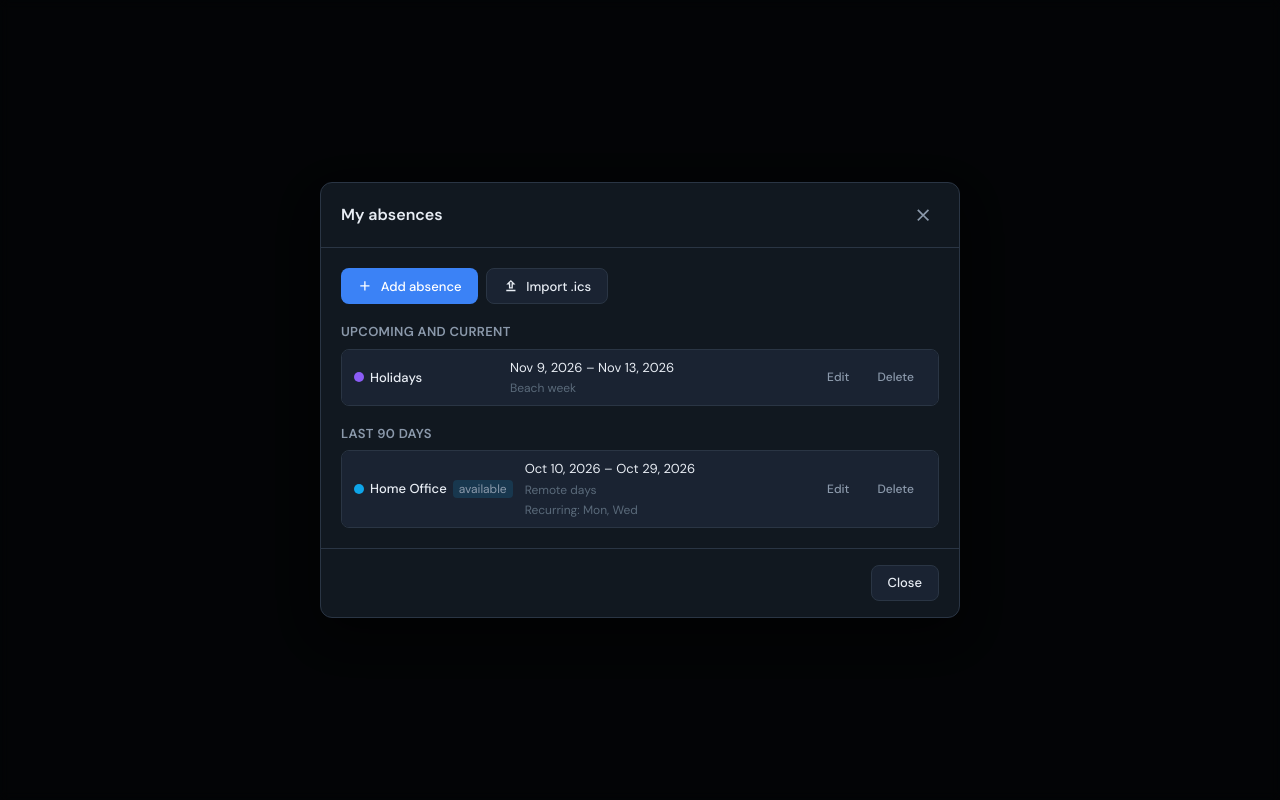
Scenario: MyAbsencesModal › deletes through the API after confirmation and refetches
Click the button "Delete" in the row of "Holidays" at (896, 377), box [866, 363, 926, 391]
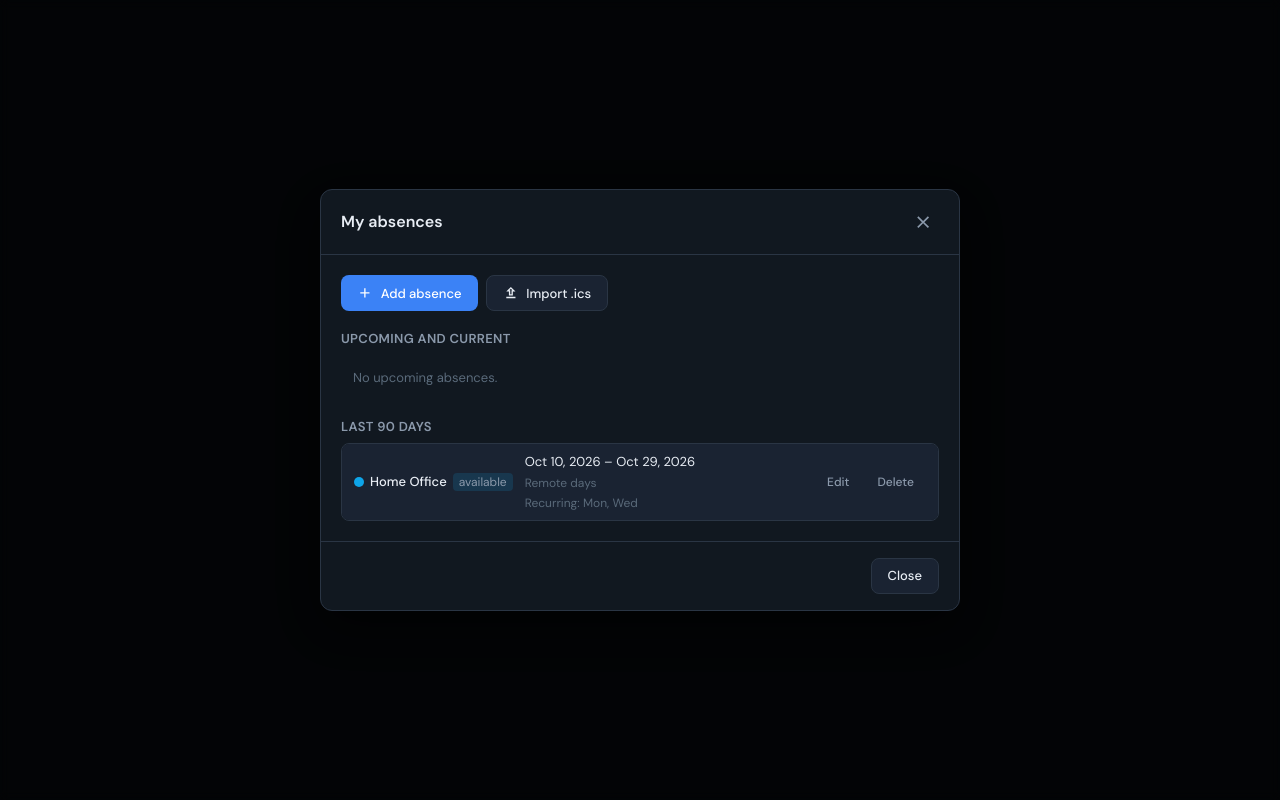
Result: the text "Beach week" is gone
